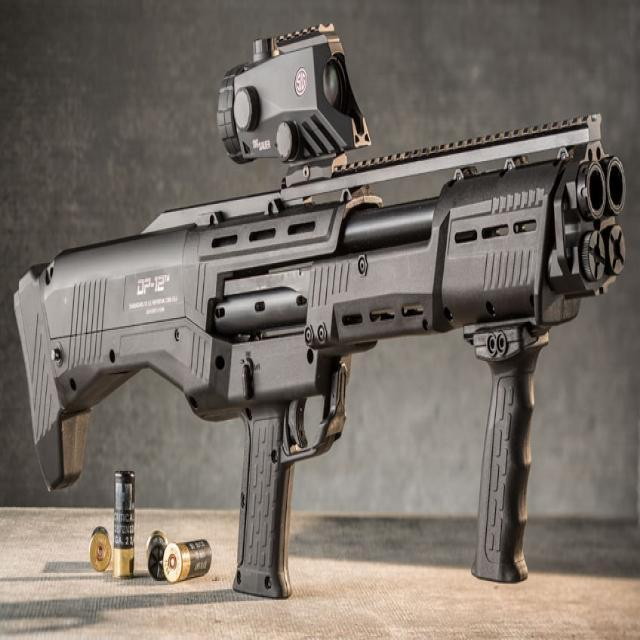shotgun: (19, 113, 630, 580)
